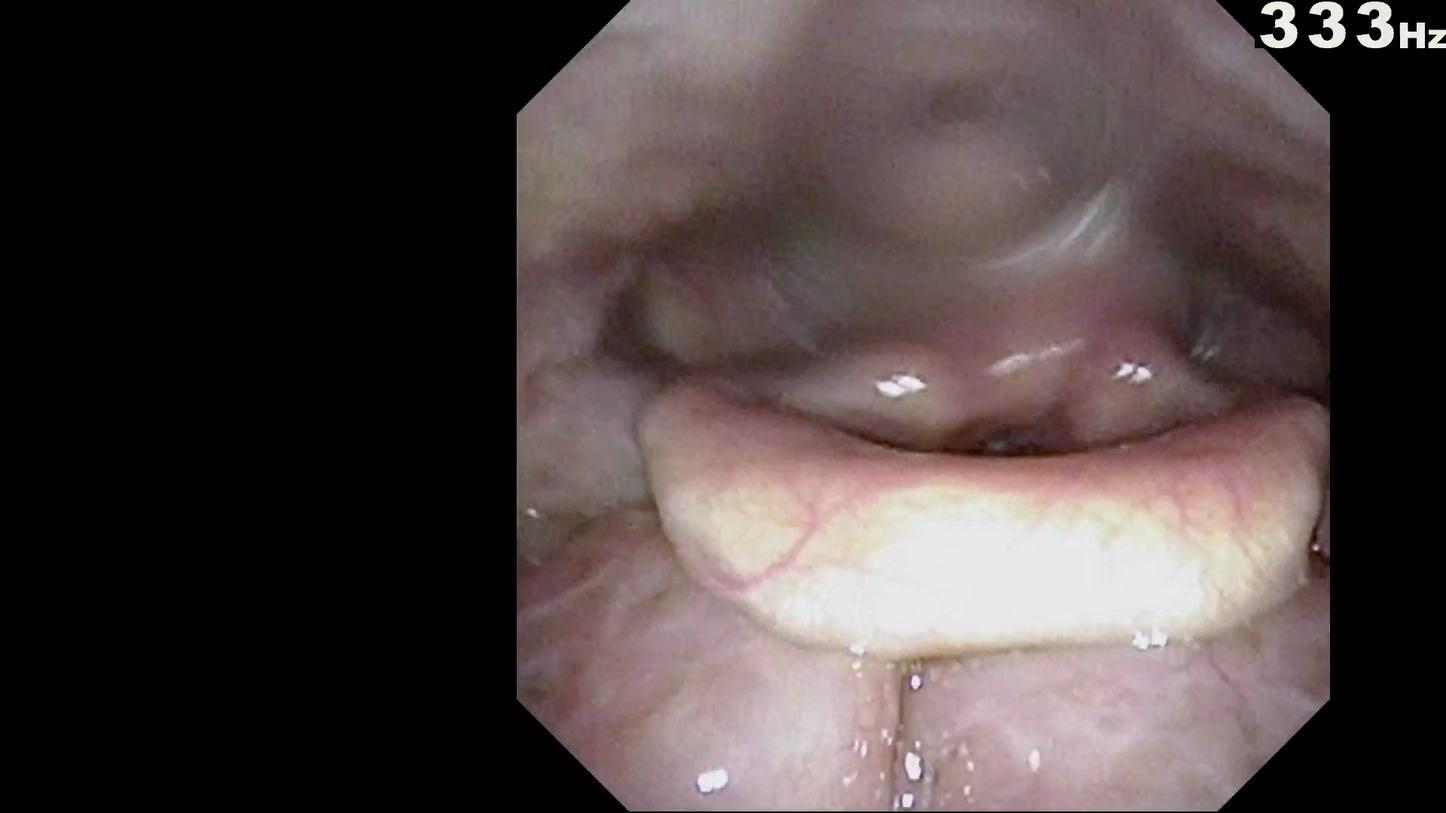epiglottis: (693, 409, 1302, 634)
